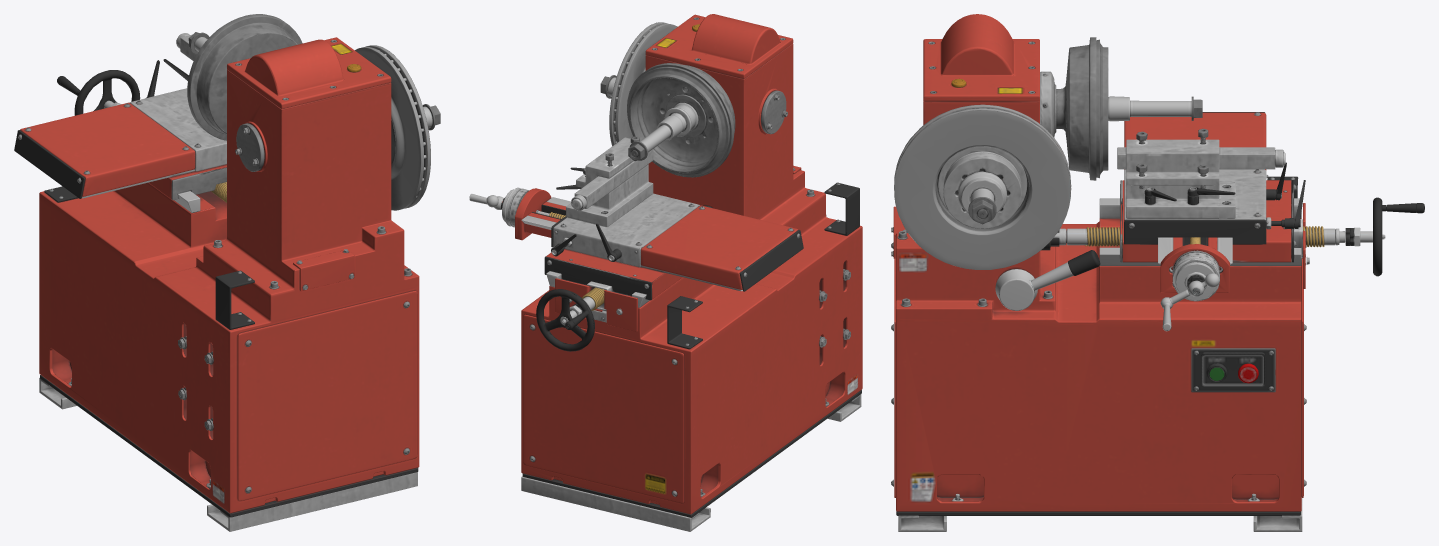
File: serviceTool_brake_lathe_a01.glb
3 renders of one model, left to right at view 1: azimuth 30°, elevation 25°; view 2: azimuth 150°, elevation 25°; view 3: azimuth 270°, elevation 25°, orthographic. The views are drawn at different scales.
Visible parts, largest first — view 1: serviceTool_brake_lathe_a01; view 2: serviceTool_brake_lathe_a01; view 3: serviceTool_brake_lathe_a01.
Part boxes in pixels (<box>): serviceTool_brake_lathe_a01: <box>14,14,440,531</box>; serviceTool_brake_lathe_a01: <box>469,14,862,531</box>; serviceTool_brake_lathe_a01: <box>891,14,1424,531</box>.
Size of the model in its own units: 1.03 by 1.21 by 1.28.
Materials: 12 (12 with a texture image).
